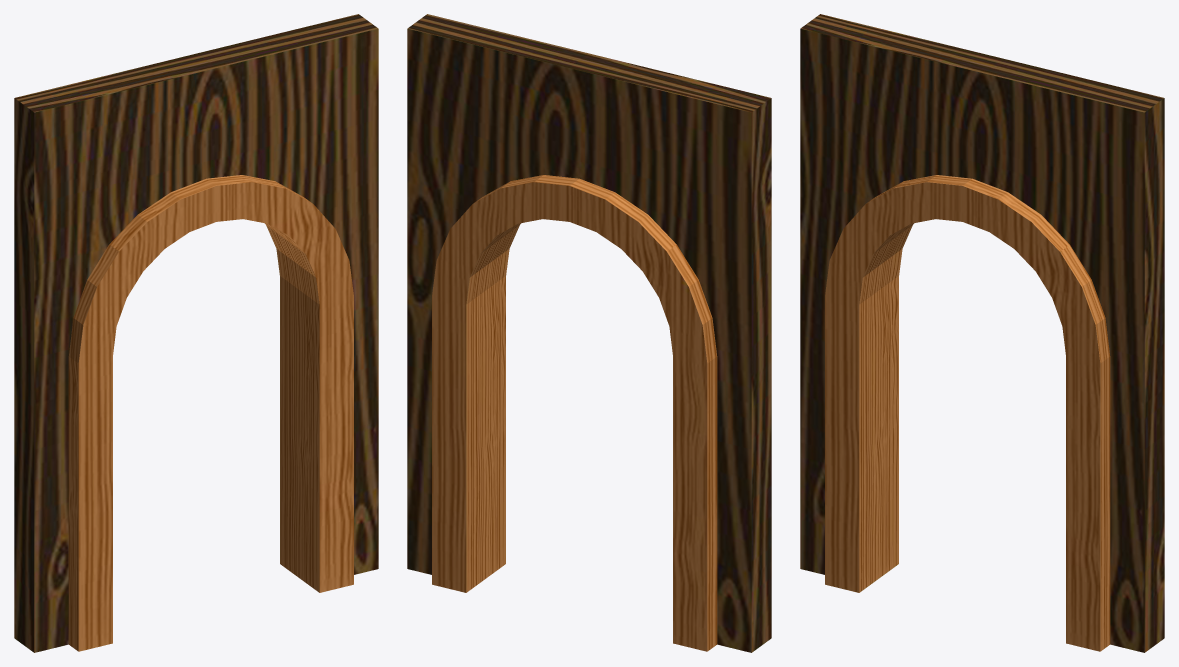
File: mousehole.FBX
3 views of the same model, side by side, from view 1: azimuth 30°, elevation 25°; view 2: azimuth 150°, elevation 25°; view 3: azimuth 330°, elevation 25° (orthographic).
Visible parts, largest first — view 1: Tube001; view 2: Tube001; view 3: Tube001.
Boxes of the visible parts, x1=… form: Tube001: x1=14, y1=14, x2=378, y2=652; Tube001: x1=407, y1=14, x2=771, y2=652; Tube001: x1=800, y1=14, x2=1164, y2=652.
Bounding box in the file's own units: 78.74 × 118 × 15.75.
1 material, 1 textured.
